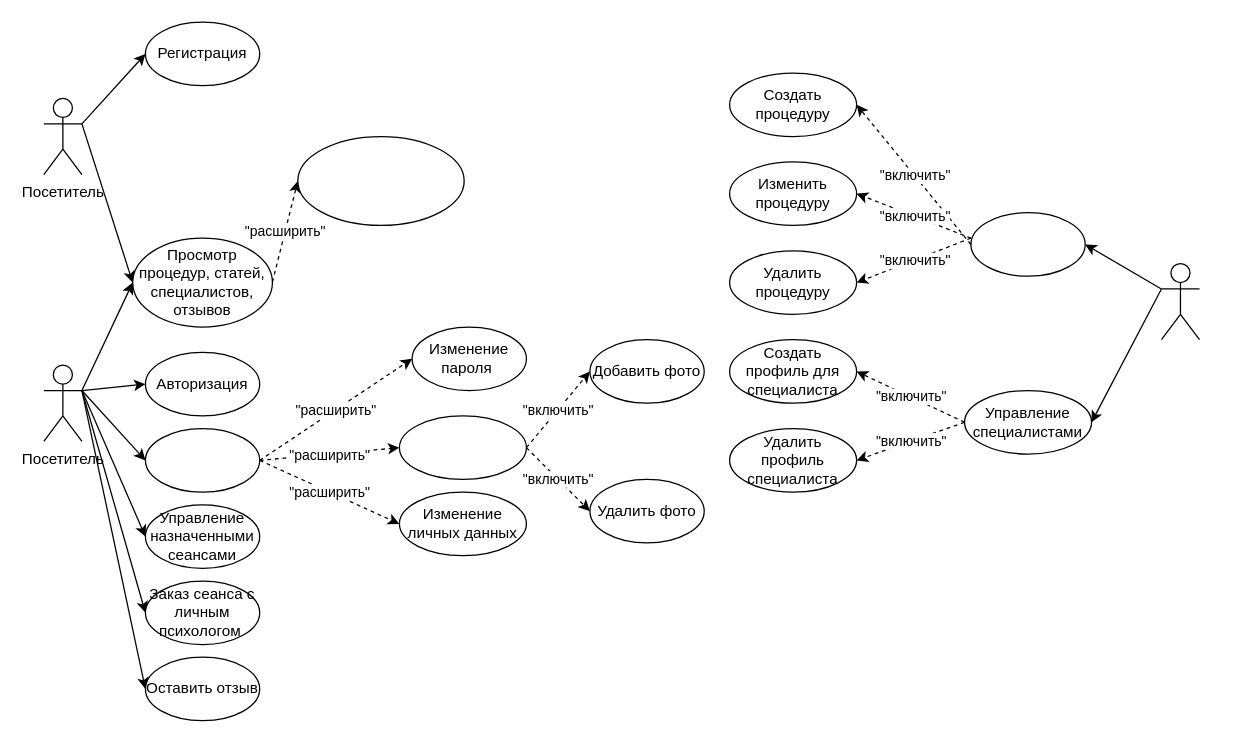
The diagram is 1257 pixels wide and 743 high, and some of its shapes have lost their labels. Here are the shapes that lost their labels. From the top down, the centre of each, then its label:
At point (380, 180): "Поиск услуг по специалистам, поиск психологов по направлению".
At point (1027, 243): "Управление услугами".
At point (1180, 301): "Администратор".
At point (202, 459): "Управление профилем".
At point (462, 447): "Редактирование фото профиля".
